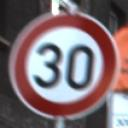speed_limit_30: (7, 10, 122, 122)
